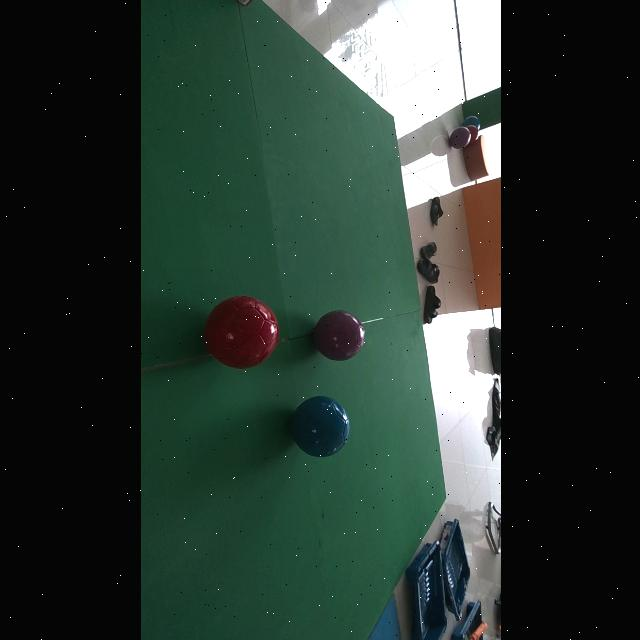B: (290, 396, 349, 458), (462, 116, 479, 130)
P: (312, 310, 365, 361), (448, 127, 469, 149)
R: (203, 296, 278, 369), (467, 125, 478, 145)
